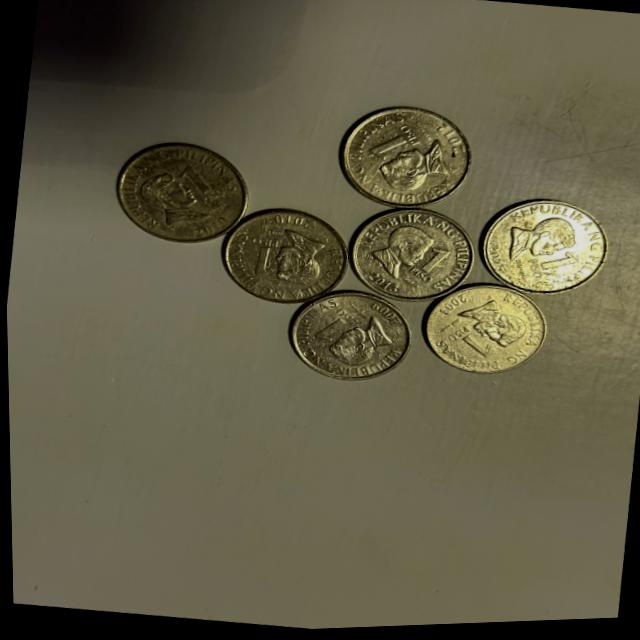1_Old_Front: (165, 154, 228, 211), (307, 301, 367, 357), (437, 319, 502, 367), (239, 221, 288, 280), (368, 120, 420, 169), (404, 246, 453, 292), (524, 246, 580, 286)
